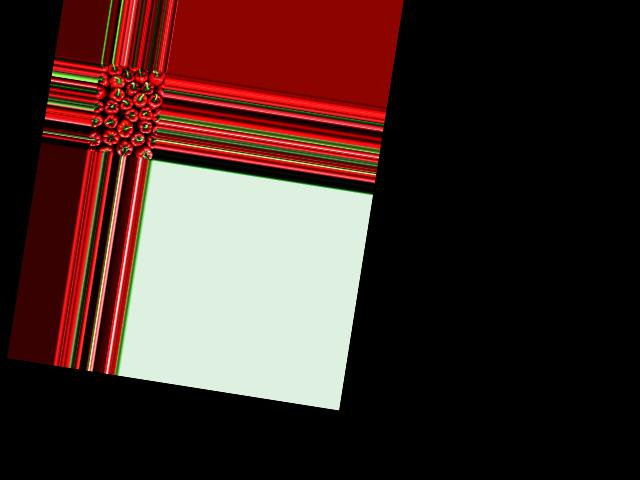bell_pepper: (149, 70, 165, 86)
